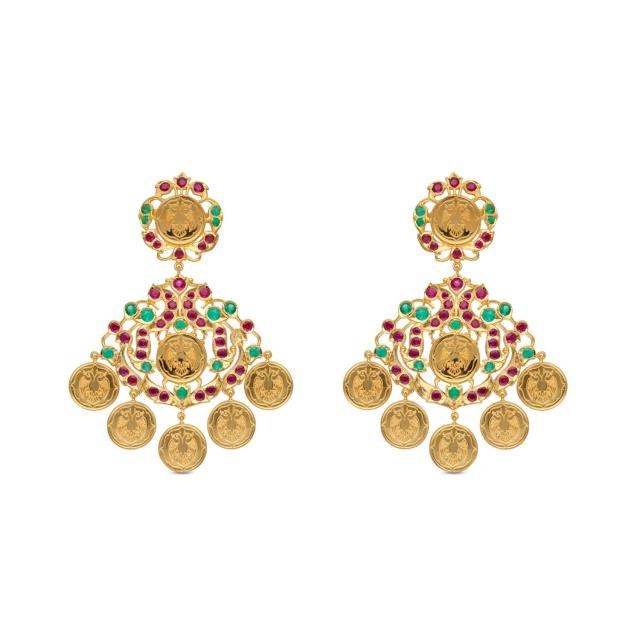missing gem: (417, 383, 428, 394), (233, 332, 243, 342)
